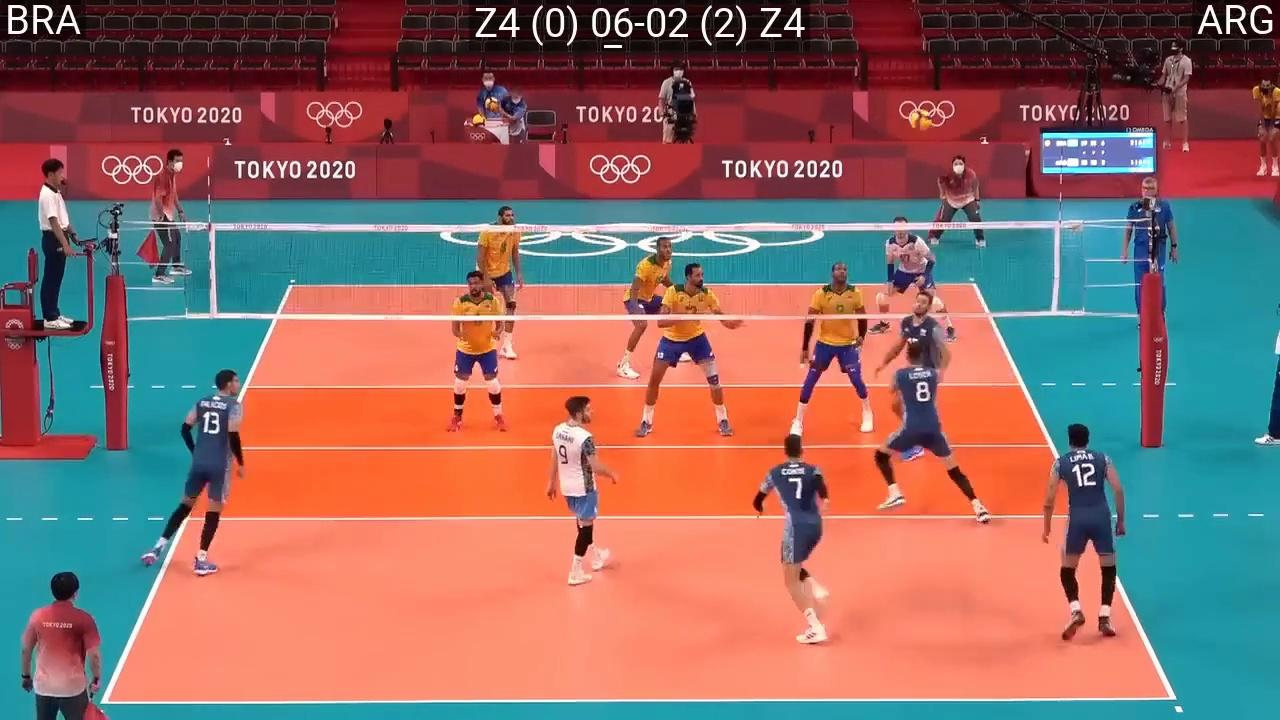ball: (910, 108, 931, 132)
